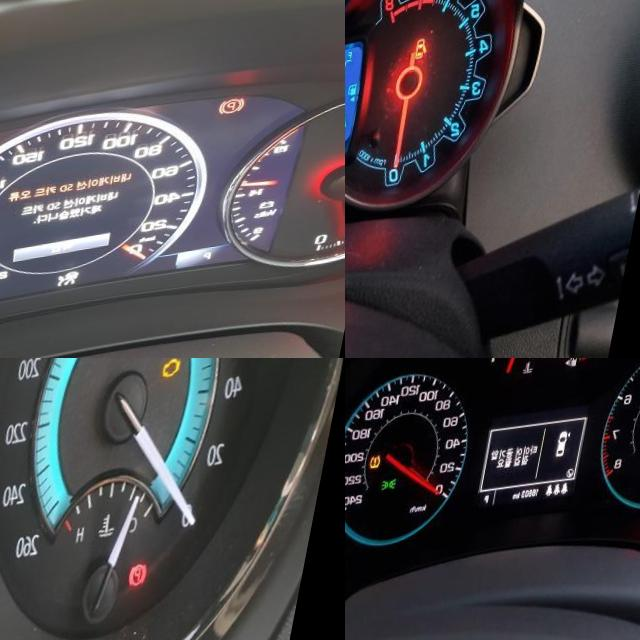SideLamp: (396, 482, 413, 496)
